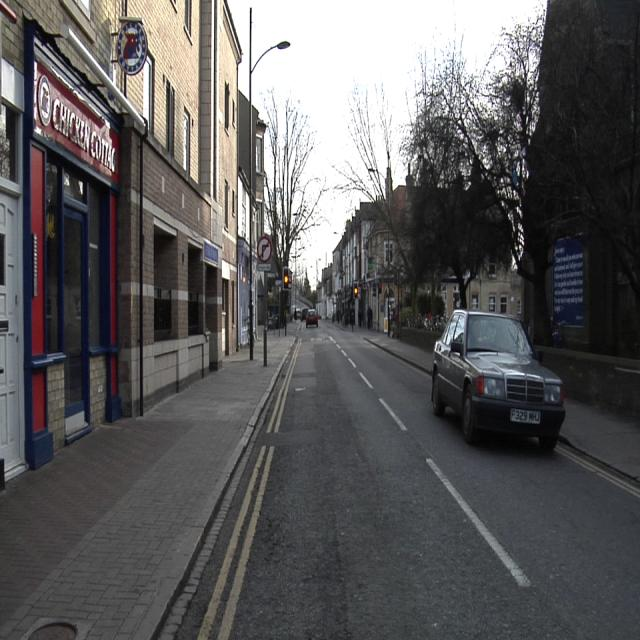Building: (3, 0, 266, 478), (318, 200, 405, 332)
Car: (432, 311, 564, 447), (306, 311, 318, 327)
Road: (233, 325, 639, 639)
Tree: (334, 6, 548, 314), (263, 86, 326, 267)
